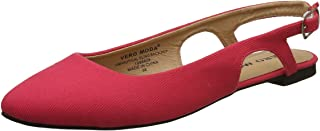shoes: (1, 1, 320, 130)
